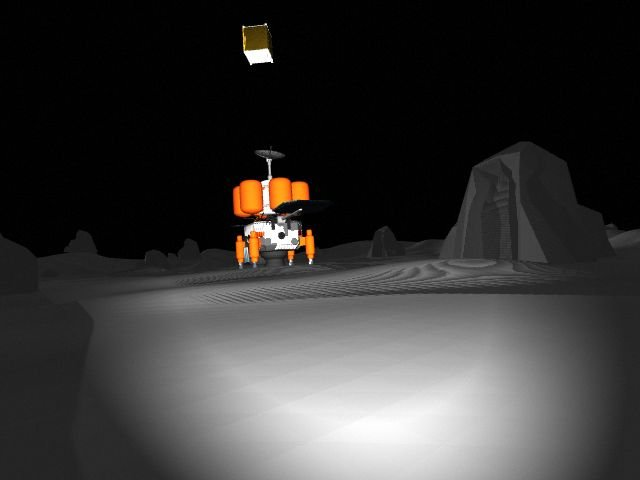cubesat: (231, 20, 296, 72)
